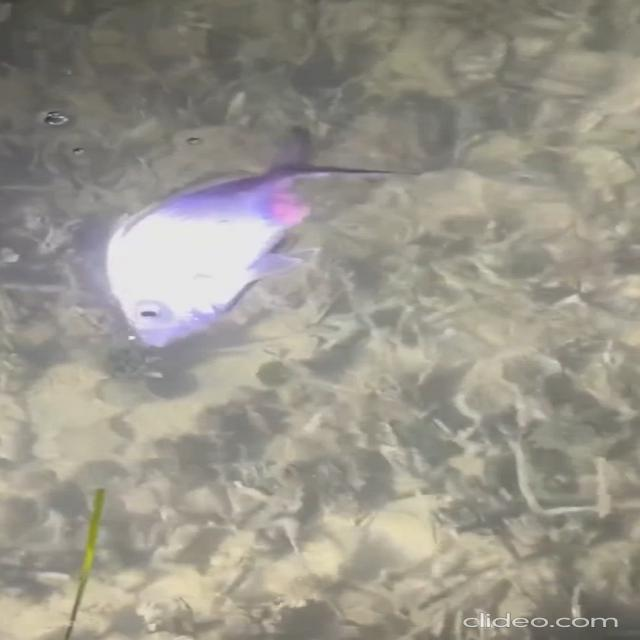fish: (93, 130, 411, 356)
